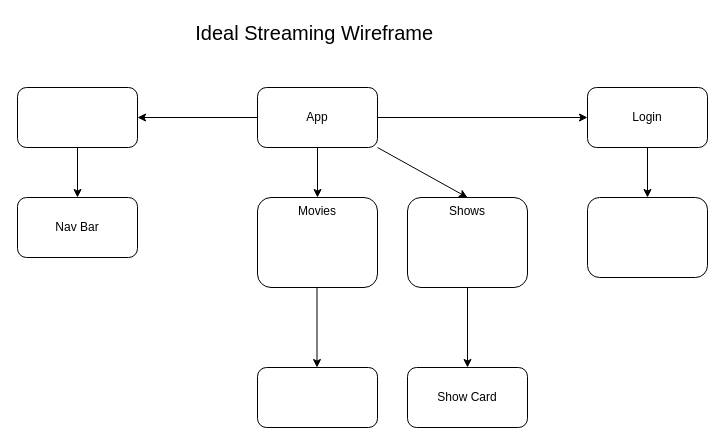
This 725x445 diagram has some shape labels left out. Here are the shapes that lost their labels. From the top down, the centre of each, then its label:
At point (77, 117): "Header".
At point (647, 237): "Users".
At point (317, 397): "Movie Card".
